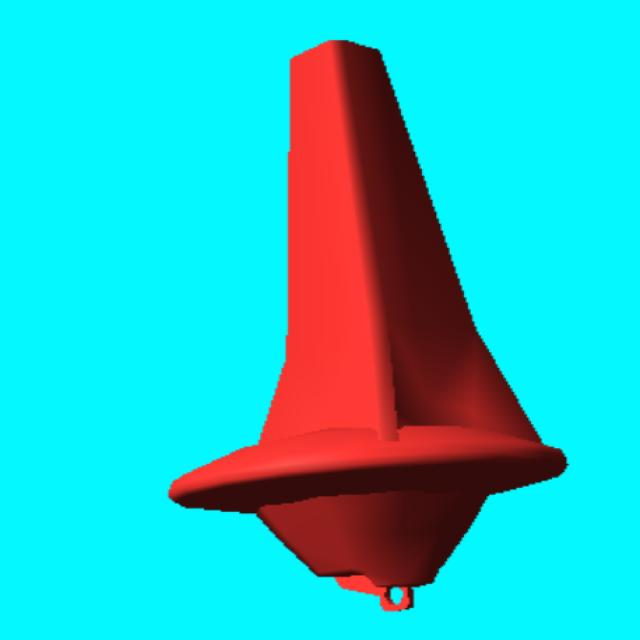RedBuoy: (170, 41, 566, 610)
